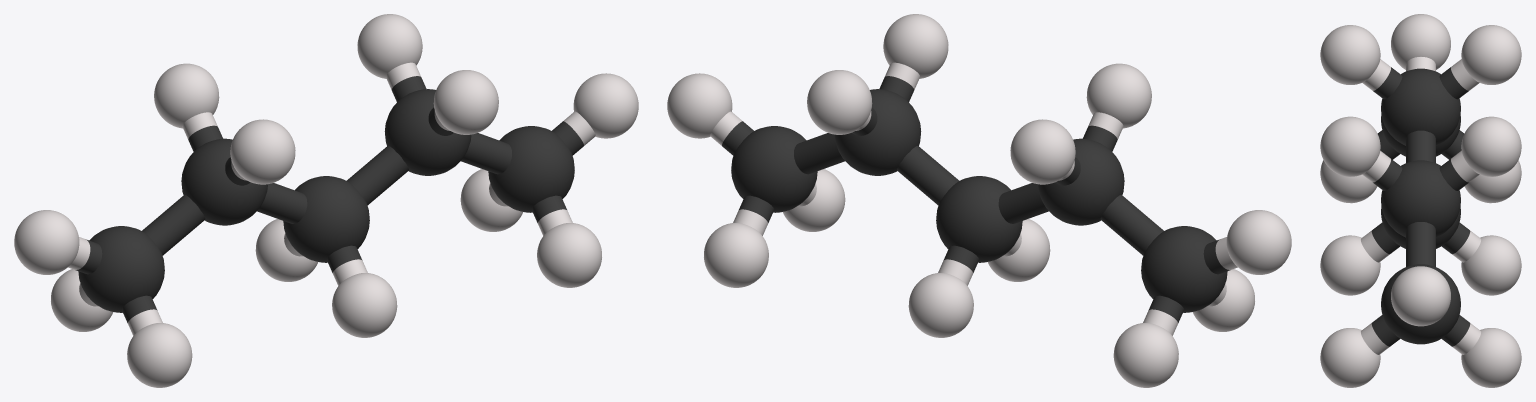
Rendered from zww.gltf.
3 views of the same model, side by side, from view 1: azimuth 30°, elevation 25°; view 2: azimuth 150°, elevation 25°; view 3: azimuth 270°, elevation 25° (orthographic). The views are drawn at different scales.
Visible parts, largest first — view 1: 1; view 2: 1; view 3: 1.
Part boxes in pixels (box(x1,y1,x2,y2)): 1: box(14, 14, 638, 387); 1: box(667, 14, 1291, 387); 1: box(1320, 14, 1521, 387).
Size of the model in its own units: 65.42 by 24.08 by 20.03.
Materials: 2 (2 with a texture image).
